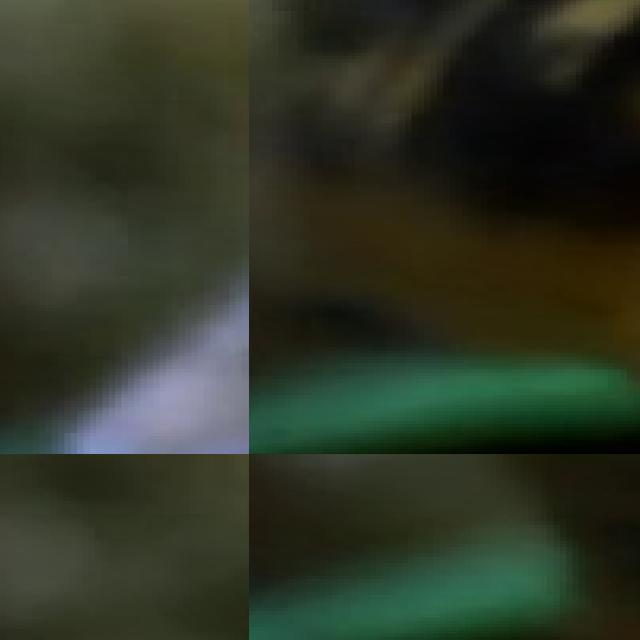fish: (249, 0, 640, 452), (0, 0, 249, 454)
